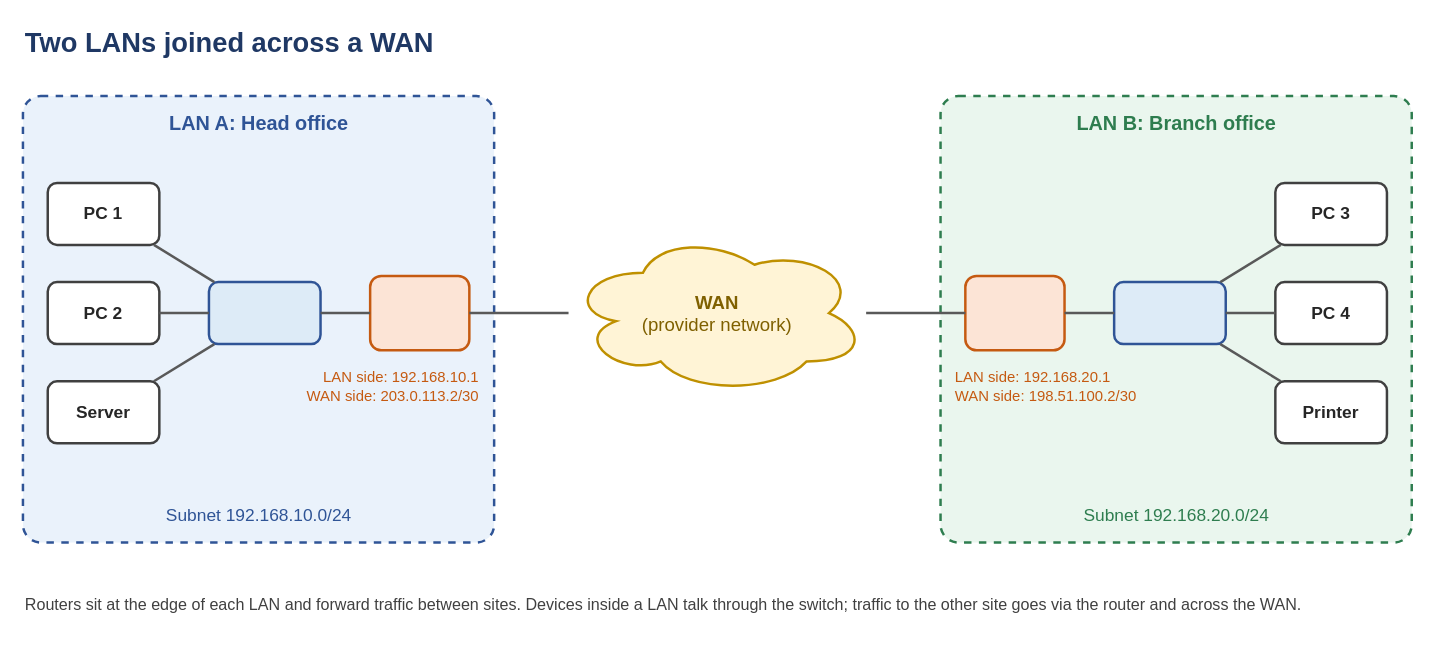
Image size: 1433x650. Some labels were removed from this diagram. The shapes that lost their labels are listed below. From the top down, each one's centre as x and y in pixels, then its label:
At [264,312]: "Switch A".
At [419,312]: "Router A".
At [1014,312]: "Router B".
At [1169,312]: "Switch B".
